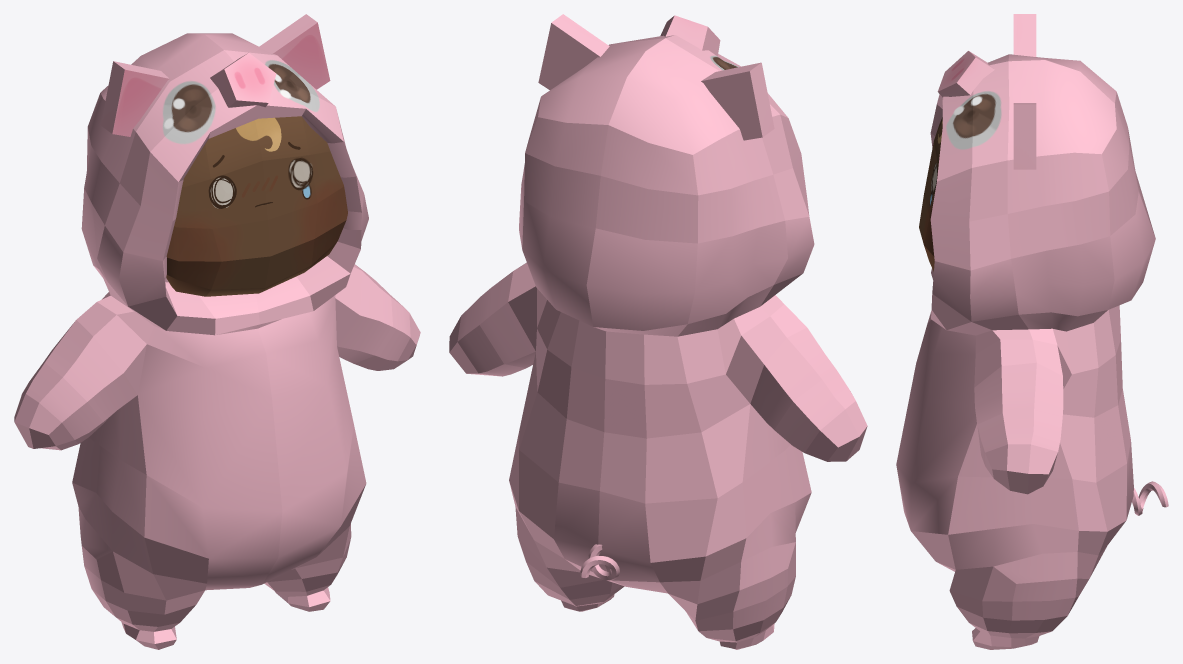
File: ham.fbx
3 renders of one model, left to right at view 1: azimuth 30°, elevation 25°; view 2: azimuth 150°, elevation 25°; view 3: azimuth 270°, elevation 25°, orthographic. The views are drawn at different scales.
Visible parts, largest first — view 1: Ham, headLP4; view 2: Ham; view 3: Ham, headLP4.
Boxes of the visible parts, left/top/right/bottom form: Ham: left=14, top=14, right=420, bottom=649; headLP4: left=166, top=116, right=347, bottom=296; Ham: left=449, top=14, right=867, bottom=649; Ham: left=896, top=14, right=1168, bottom=649; headLP4: left=919, top=117, right=942, bottom=271.
Bounding box in the file's own units: 10.21 × 14.08 × 6.27.
